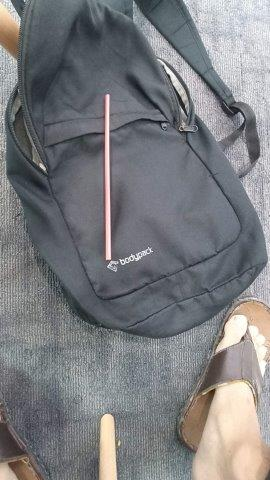sedotan: (105, 94, 111, 260)
